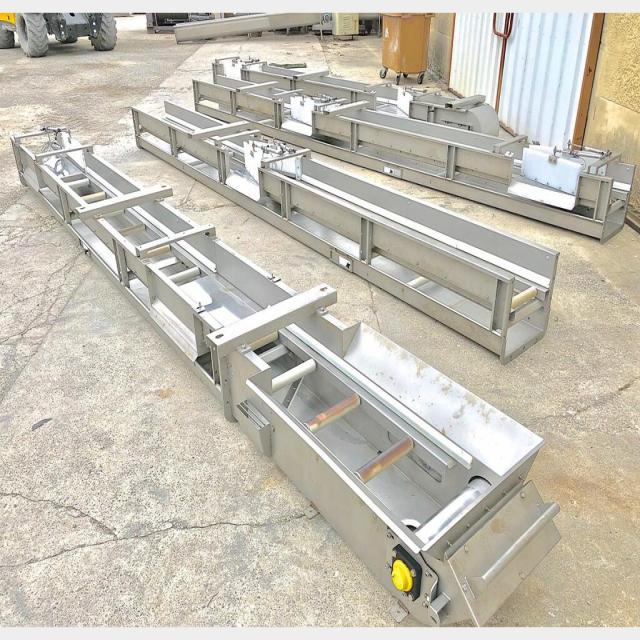Convoyeur: (9, 127, 562, 625), (114, 93, 560, 368), (193, 77, 635, 251), (199, 54, 504, 134)
